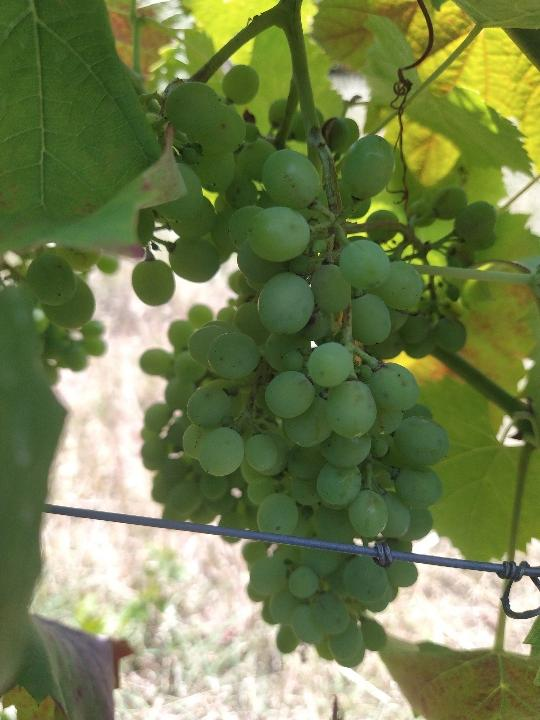grape: (132, 62, 498, 672)
